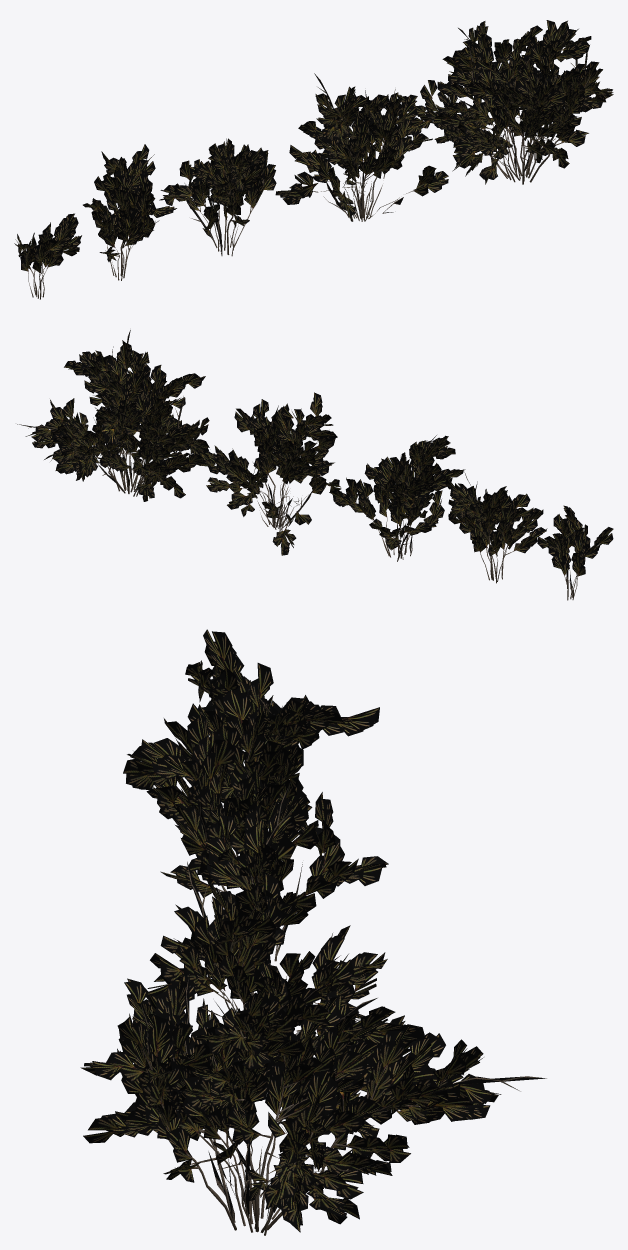
Rendered from bush_a.glb.
3 views of the same model, one above another, from view 1: azimuth 30°, elevation 25°; view 2: azimuth 150°, elevation 25°; view 3: azimuth 270°, elevation 25° (orthographic). The views are drawn at different scales.
Parts seen in each view (by area): view 1: wild_rooibos_bush_a; view 2: wild_rooibos_bush_a; view 3: wild_rooibos_bush_a.
Part boxes in pixels (box(x1,y1,x2,y2)): wild_rooibos_bush_a: box(14, 20, 613, 299); wild_rooibos_bush_a: box(17, 330, 613, 600); wild_rooibos_bush_a: box(80, 629, 546, 1235).
Size of the model in its own units: 2.27 by 0.533 by 0.8285.
Materials: 2 (2 with a texture image).
